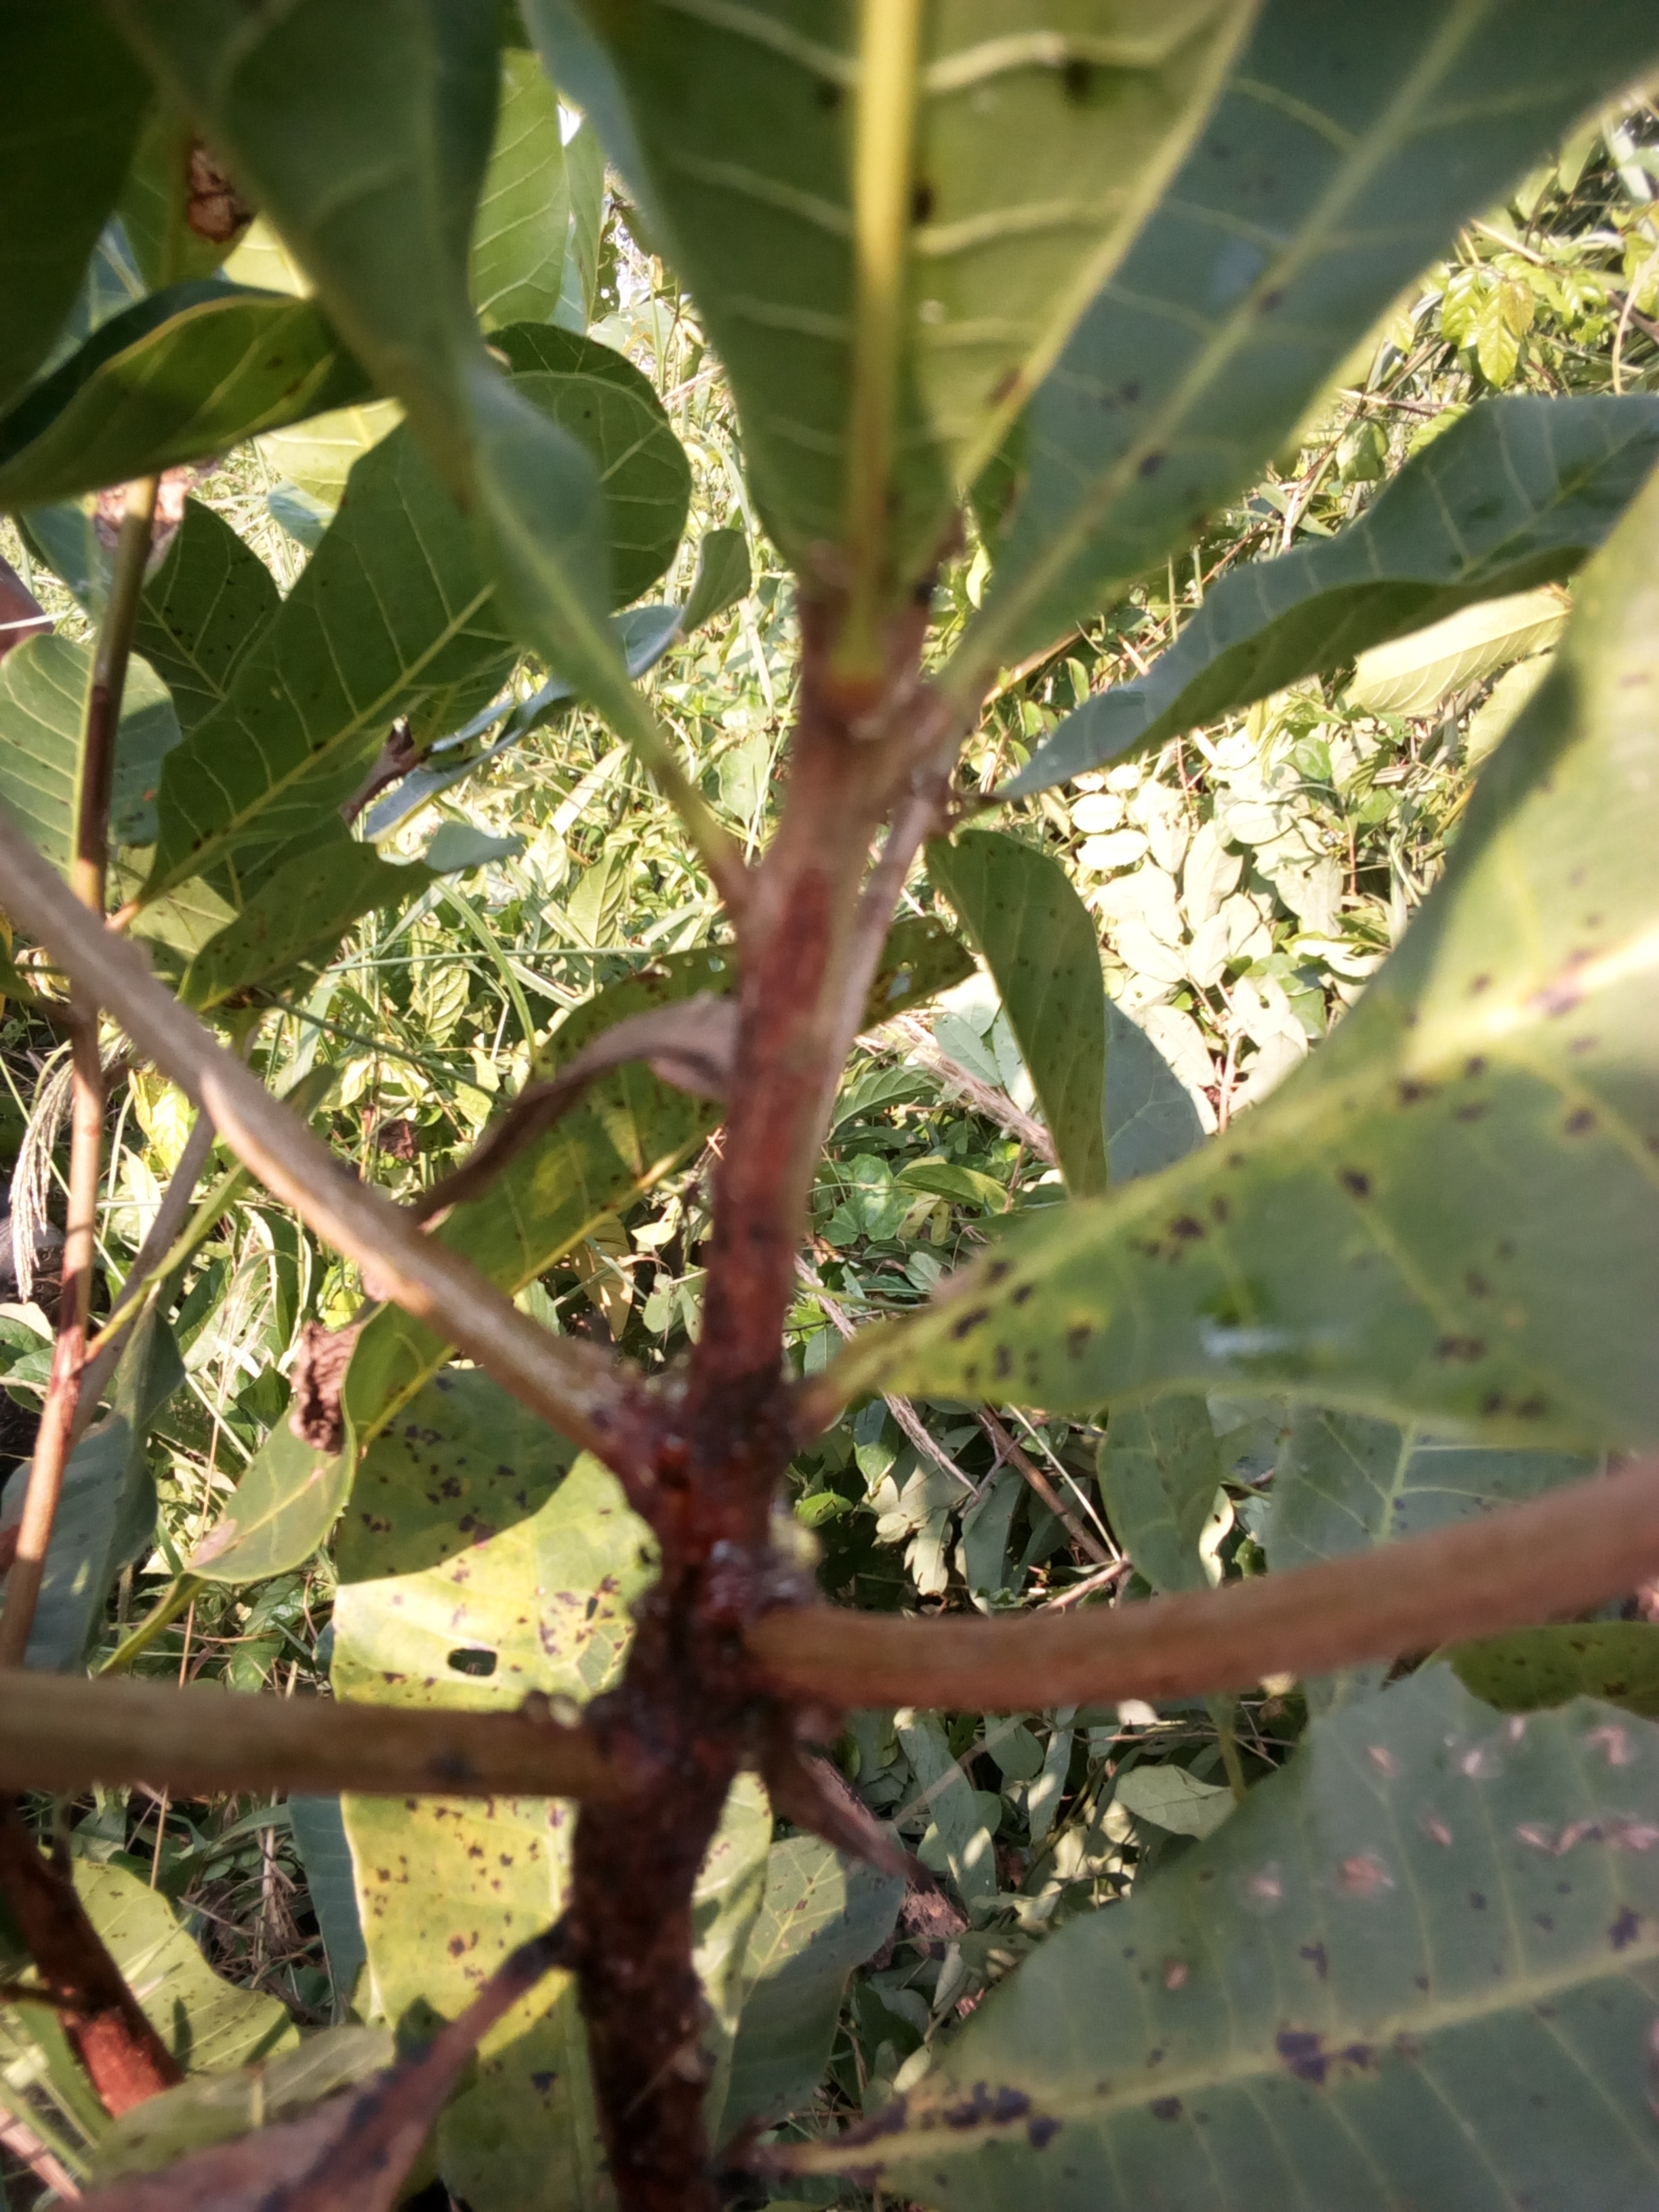Pestalotiose: (833, 597, 1659, 1411), (352, 1447, 613, 2203)
